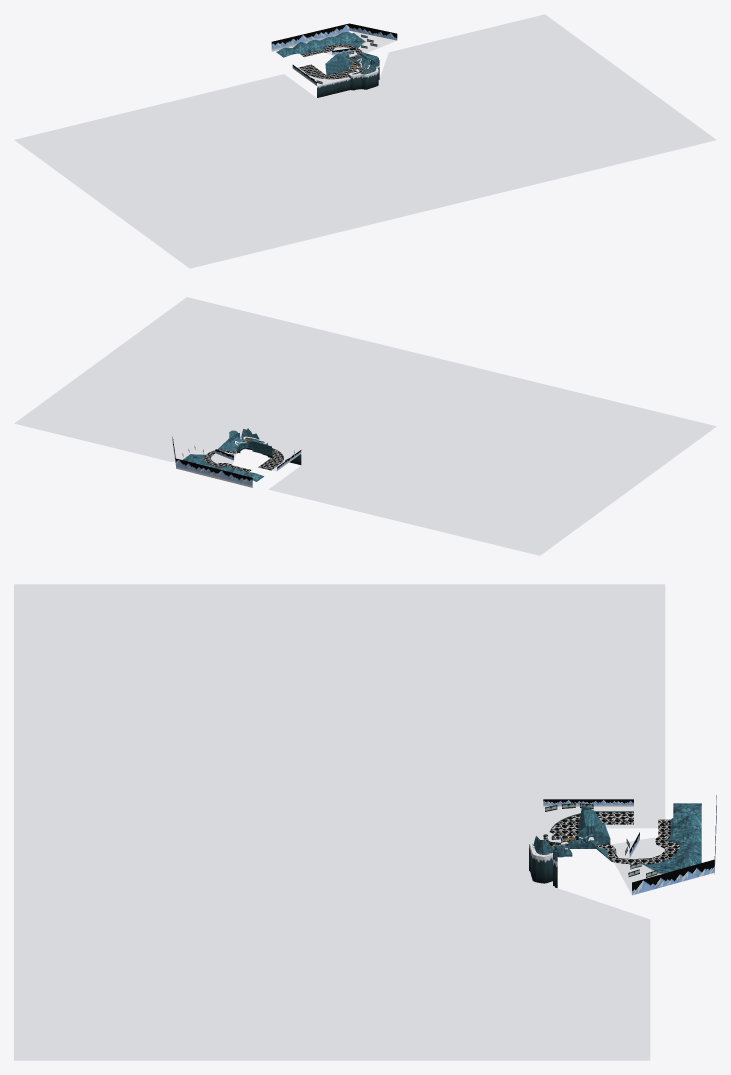
3 views of the same model, one above another, from view 1: azimuth 30°, elevation 25°; view 2: azimuth 150°, elevation 25°; view 3: azimuth 270°, elevation 25° (orthographic). The views are drawn at different scales.
Visible parts, largest first — view 1: Helado_Mountain-SKP--HM_Abyss, Helado_Mountain-SKP--HM_IceWall, Helado_Mountain-SKP--HM_Mountain, Helado_Mountain-SKP--HM_SnowRockWall, Helado_Mountain-SKP--HM_Snow, Helado_Mountain-SKP--HM_Water; view 2: Helado_Mountain-SKP--HM_Abyss, Helado_Mountain-SKP--HM_IceWall, Helado_Mountain-SKP--HM_Mountain, Helado_Mountain-SKP--HM_Snow, Helado_Mountain-SKP--HM_Water; view 3: Helado_Mountain-SKP--HM_Abyss, Helado_Mountain-SKP--HM_IceWall, Helado_Mountain-SKP--HM_Snow, Helado_Mountain-SKP--HM_Water, Helado_Mountain-SKP--HM_Mountain, Helado_Mountain-SKP--HM_SnowRockWall.
Part boxes in pixels (<box>): Helado_Mountain-SKP--HM_Abyss: <box>14,14,716,268</box>; Helado_Mountain-SKP--HM_IceWall: <box>276,32,379,77</box>; Helado_Mountain-SKP--HM_Mountain: <box>271,23,397,85</box>; Helado_Mountain-SKP--HM_SnowRockWall: <box>317,65,379,97</box>; Helado_Mountain-SKP--HM_Snow: <box>297,31,396,86</box>; Helado_Mountain-SKP--HM_Water: <box>298,44,368,79</box>; Helado_Mountain-SKP--HM_Abyss: <box>14,297,716,555</box>; Helado_Mountain-SKP--HM_IceWall: <box>183,428,272,481</box>; Helado_Mountain-SKP--HM_Mountain: <box>172,437,301,487</box>; Helado_Mountain-SKP--HM_Snow: <box>173,435,296,471</box>; Helado_Mountain-SKP--HM_Water: <box>203,438,283,472</box>; Helado_Mountain-SKP--HM_Abyss: <box>14,584,665,1060</box>; Helado_Mountain-SKP--HM_IceWall: <box>532,803,701,873</box>; Helado_Mountain-SKP--HM_Snow: <box>529,806,664,894</box>; Helado_Mountain-SKP--HM_Water: <box>543,812,680,864</box>; Helado_Mountain-SKP--HM_Mountain: <box>543,795,716,895</box>; Helado_Mountain-SKP--HM_SnowRockWall: <box>529,844,557,887</box>.
Bounding box in the file's own units: 1534200 × 71465 × 957462.
Materials: 19 (18 with a texture image).
